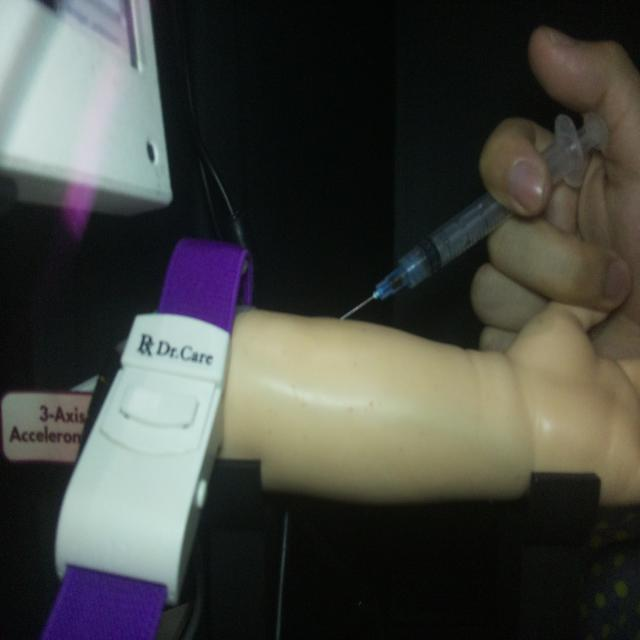29 degrees: (338, 108, 610, 322)
